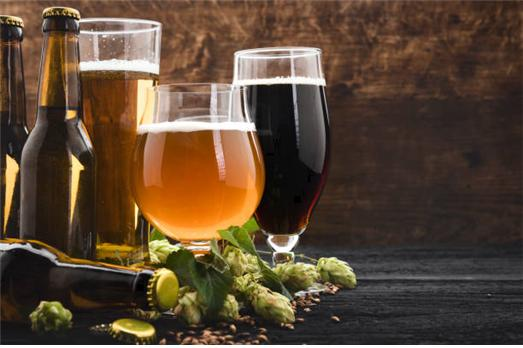alcohol: (126, 84, 267, 265), (231, 49, 335, 274), (78, 19, 164, 270), (20, 8, 96, 261), (0, 243, 180, 325), (0, 14, 28, 246)
